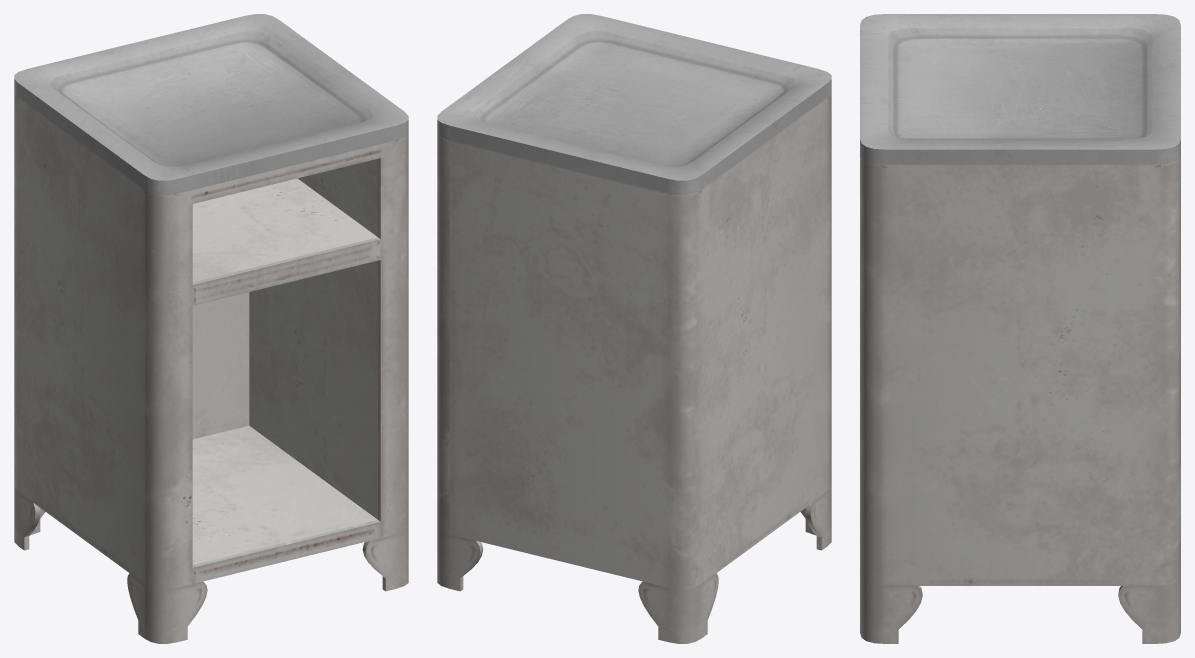
The model's file is SM_Filecabinet_03_Filecabinet_03.fbx.
3 renders of one model, left to right at view 1: azimuth 30°, elevation 25°; view 2: azimuth 150°, elevation 25°; view 3: azimuth 270°, elevation 25°, orthographic. The views are drawn at different scales.
Visible parts, largest first — view 1: SM_Filecabinet_03_Filecabinet_03; view 2: SM_Filecabinet_03_Filecabinet_03; view 3: SM_Filecabinet_03_Filecabinet_03.
Boxes of the visible parts, left/top/right/bottom form: SM_Filecabinet_03_Filecabinet_03: left=14, top=14, right=408, bottom=643; SM_Filecabinet_03_Filecabinet_03: left=437, top=14, right=831, bottom=643; SM_Filecabinet_03_Filecabinet_03: left=860, top=14, right=1180, bottom=643.
Size of the model in its own units: 50 by 50 by 85.
Materials: 1 (1 with a texture image).
